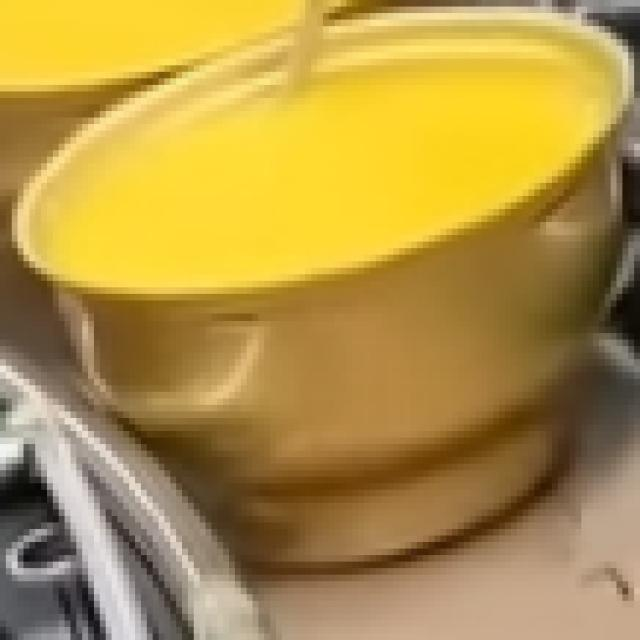cup: (3, 1, 640, 602)
